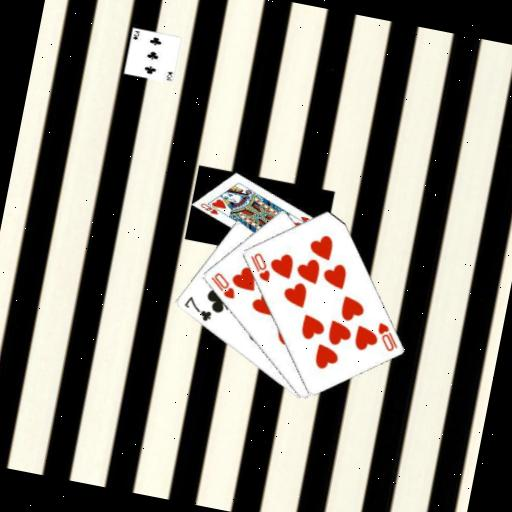10H: (205, 268, 241, 301), (243, 248, 276, 284), (370, 319, 403, 355)
7C: (178, 292, 216, 324)
